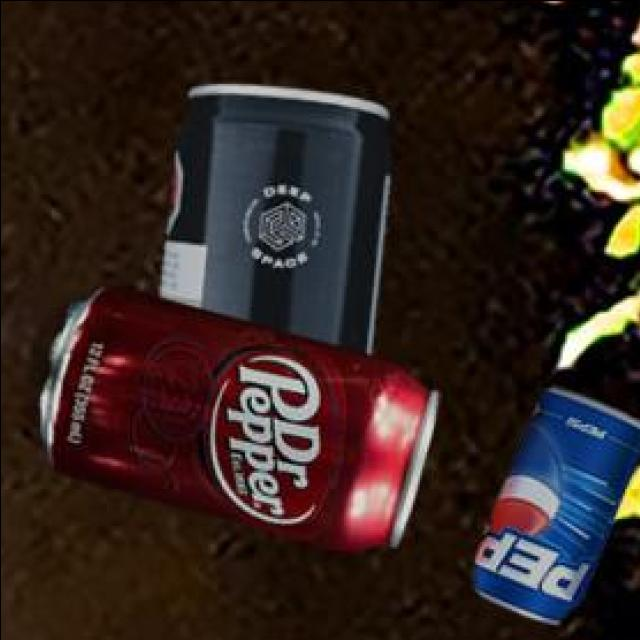logam: (36, 282, 434, 547), (155, 79, 386, 351), (471, 386, 640, 618)
